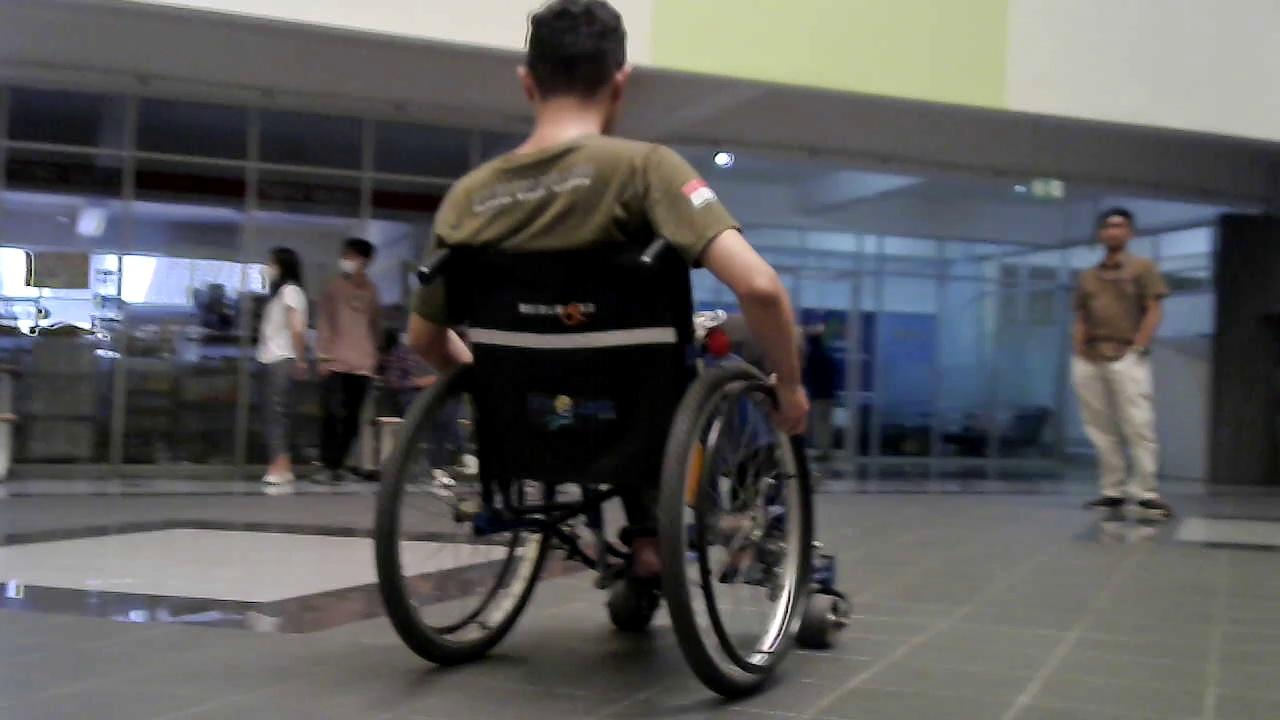person: (407, 2, 813, 604), (1069, 208, 1171, 516), (313, 238, 385, 483), (249, 245, 315, 487)
wheelchair: (329, 225, 872, 707)
